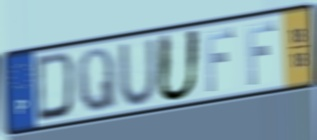D: (35, 49, 77, 125)
F: (244, 19, 278, 88), (203, 26, 236, 95)
Q: (75, 46, 120, 115)
U: (155, 27, 203, 105), (116, 36, 160, 108)
